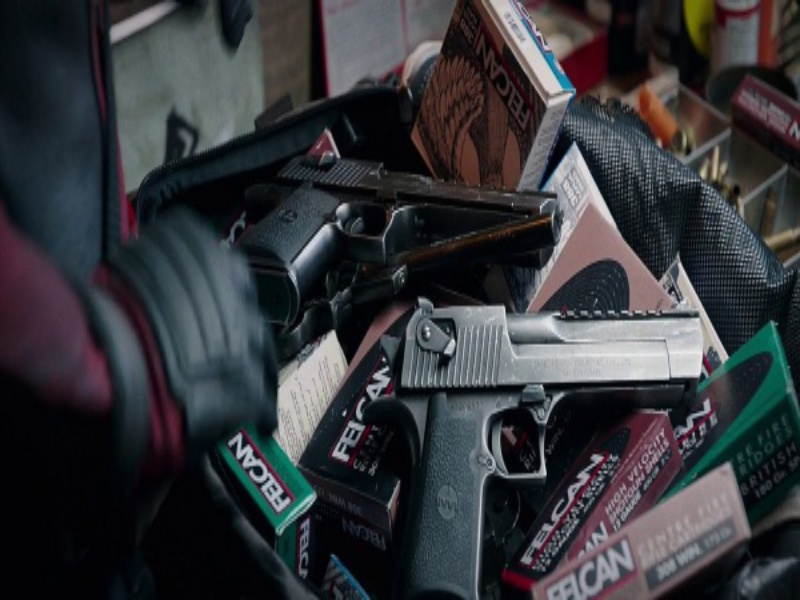weapon: (372, 295, 707, 598), (233, 148, 566, 329), (276, 213, 555, 332)
